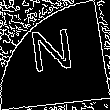N_S: (30, 27, 80, 83)
